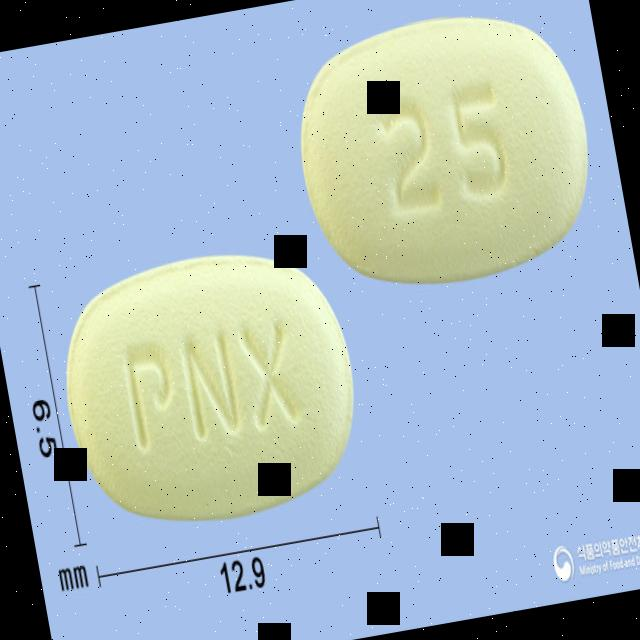Piclo Tab: (281, 0, 611, 305), (48, 236, 372, 538)
